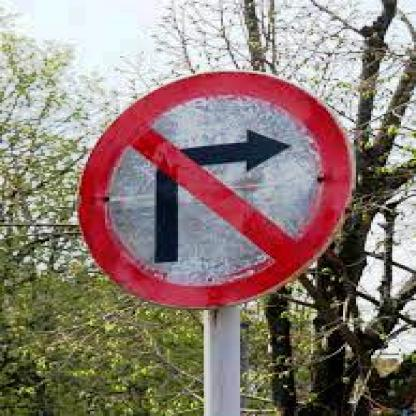No right turn: (65, 66, 345, 306)
